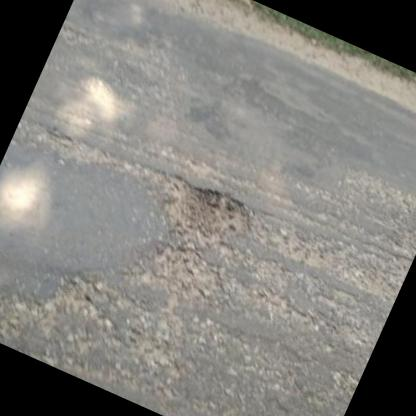pothole: (148, 166, 261, 262)
